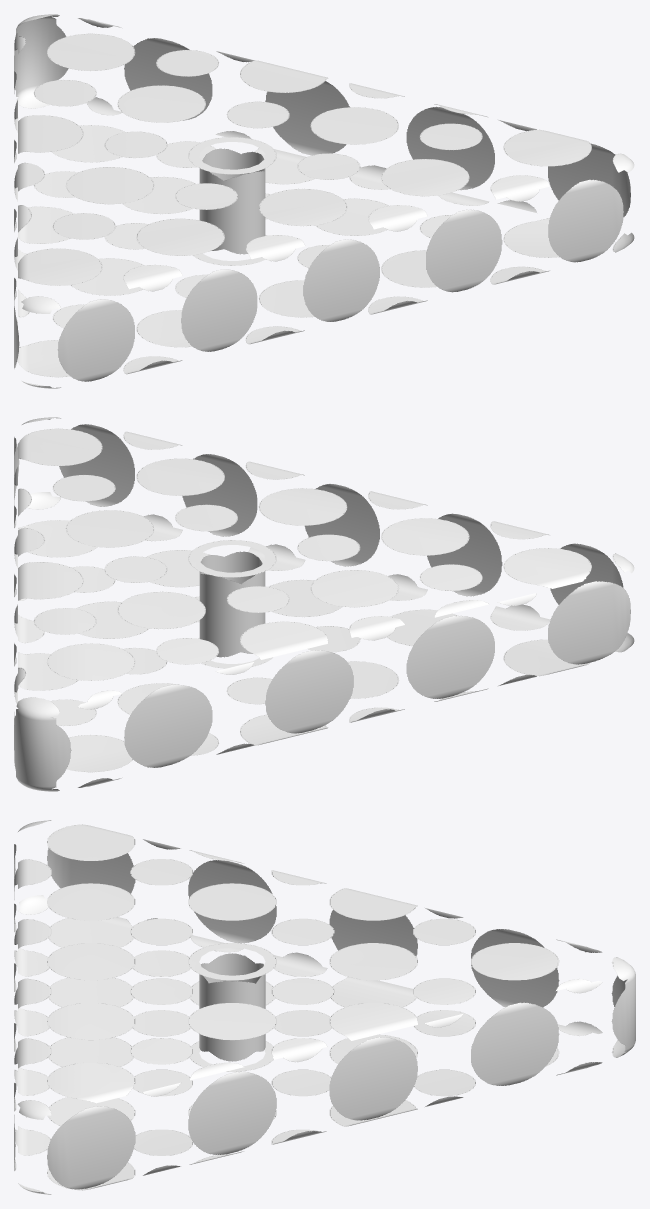
3 renders of one model, top to bottom at view 1: azimuth 30°, elevation 25°; view 2: azimuth 150°, elevation 25°; view 3: azimuth 270°, elevation 25°, orthographic.
Visible parts, largest first — view 1: OriginalTriangle.008; view 2: OriginalTriangle.008; view 3: OriginalTriangle.008.
Boxes of the visible parts, left/top/right/bottom form: OriginalTriangle.008: left=14, top=14, right=634, bottom=388; OriginalTriangle.008: left=14, top=417, right=634, bottom=791; OriginalTriangle.008: left=14, top=820, right=635, bottom=1194.
Bounding box in the file's own units: 500 × 71.37 × 440.
